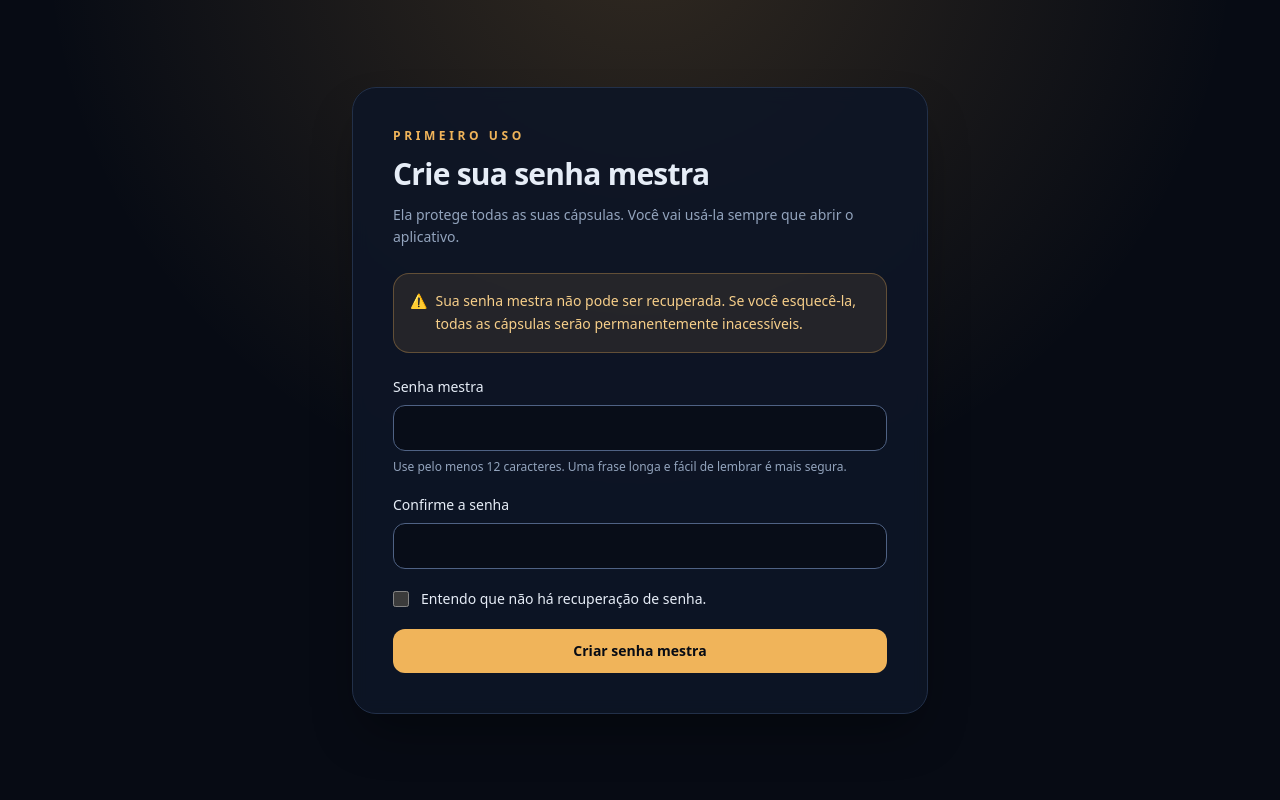
App › setup exige confirmação de senha e o checkbox de irreversibilidade
Expected: the heading "Crie sua senha mestra" is shown, [393,152,710,194]
Type "frase longa com palavras incomuns 42" into the password field labelled "Senha mestra" at [640, 428], box [393,404,887,450]
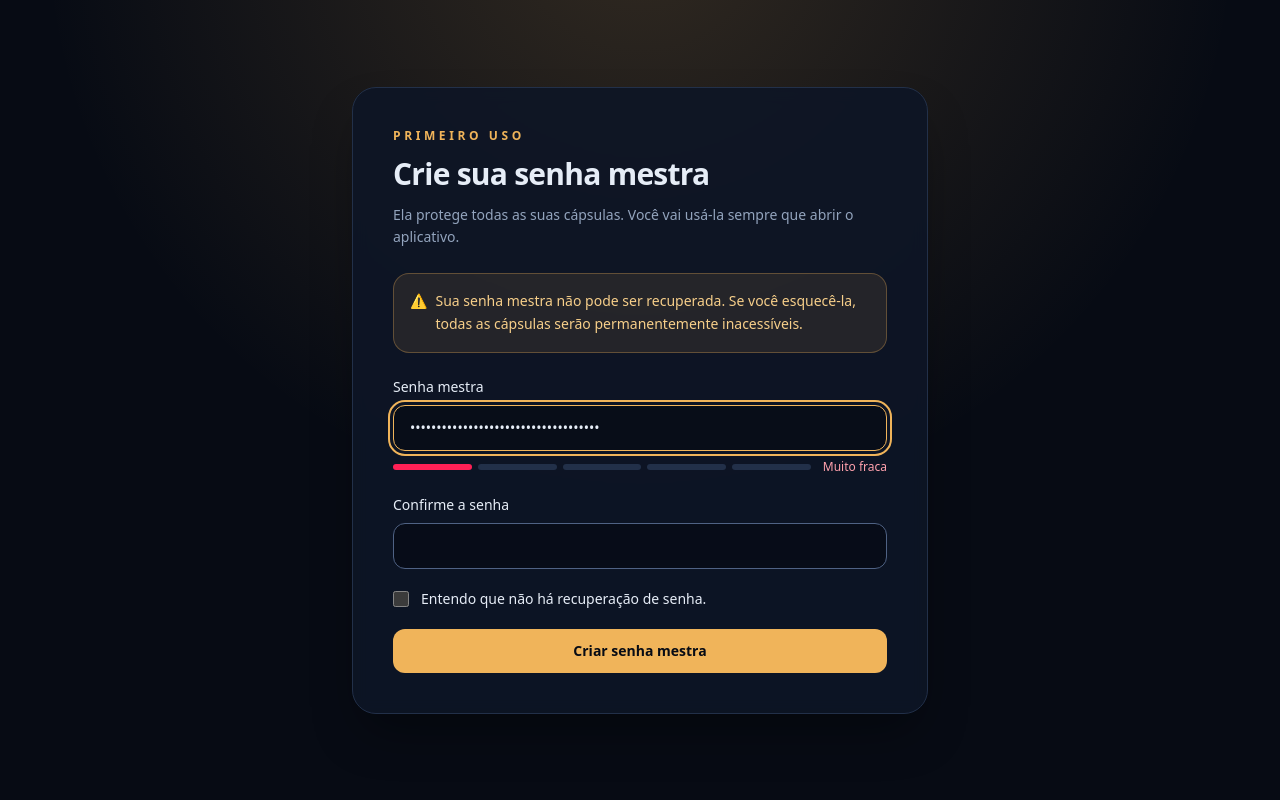
Type "outra frase qualquer 99" into the password field labelled "Confirme a senha" at [640, 546], box [393,522,887,568]
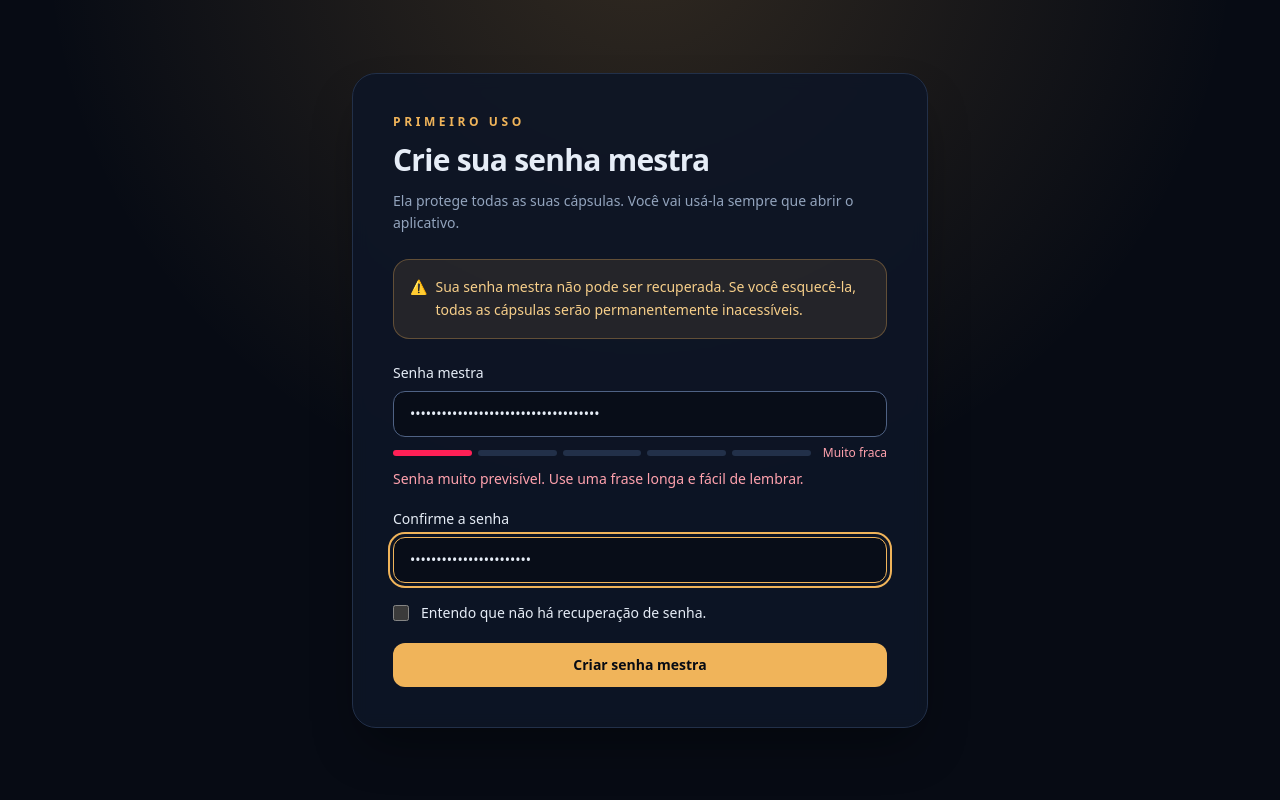
Click the button "Criar senha mestra" at [640, 664], box [393,642,887,686]
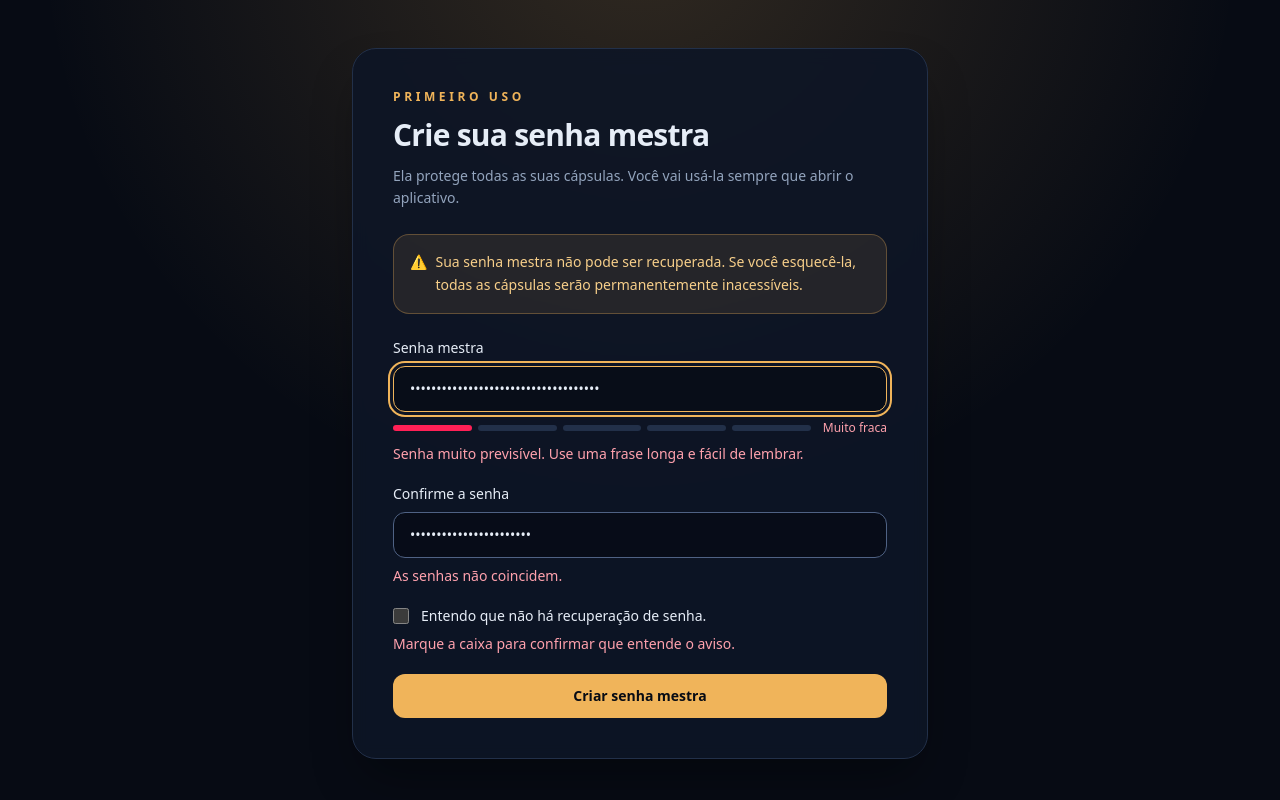
Expected: the text "As senhas não coincidem." is shown, [393,566,562,585]
Expected: the text "Marque a caixa para confirmar que entende o aviso." is shown, [393,634,735,653]
